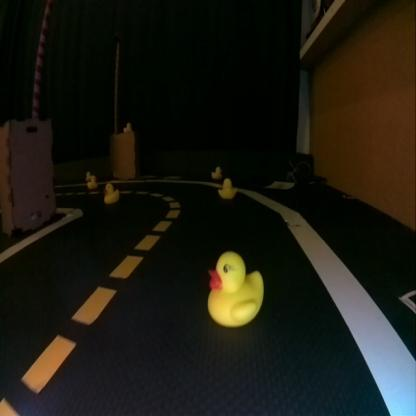Duckie: (207, 250, 262, 326), (218, 176, 236, 198), (104, 183, 118, 203), (210, 166, 222, 178), (87, 175, 97, 188), (123, 121, 132, 132)
